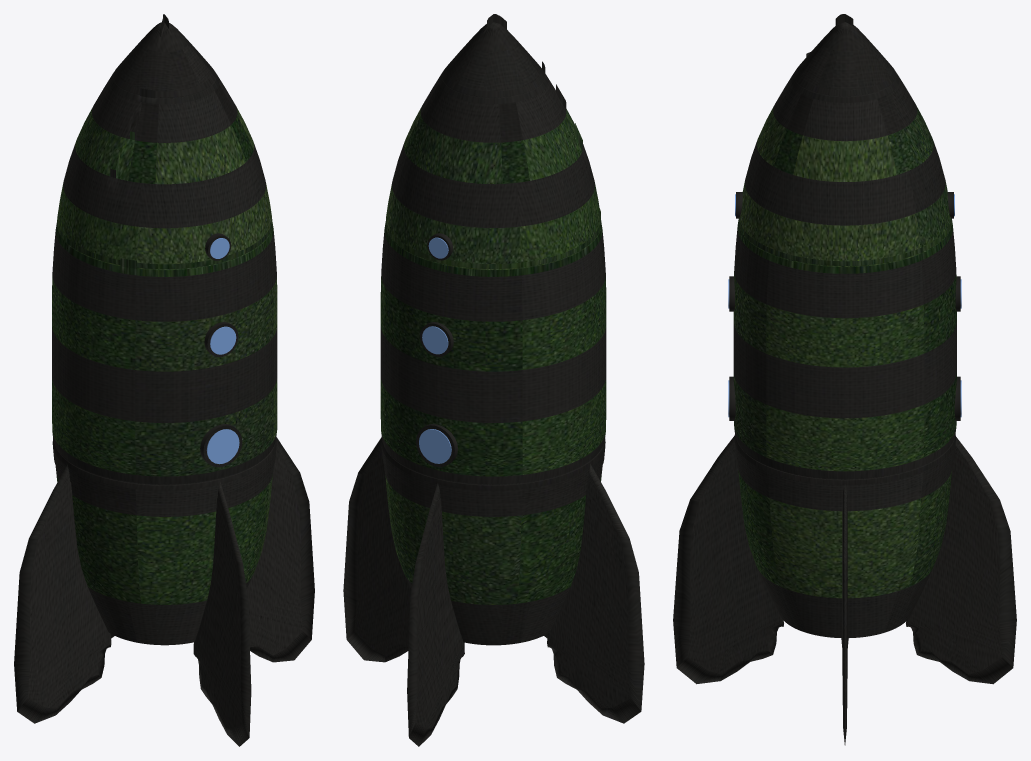
The model's file is Fusee.FBX.
The picture shows the model from 3 angles, left to right: view 1: azimuth 30°, elevation 25°; view 2: azimuth 150°, elevation 25°; view 3: azimuth 270°, elevation 25°; orthographic projection.
Visible parts, largest first — view 1: V2, Cone009, Cone008, Hublo bas001; view 2: V2, Cone006, Cone002, Hublo bas; view 3: V2.
Boxes of the visible parts, x1,y1,x2,y2 form: V2: (14,14,314,746); Cone009: (206,429,239,464); Cone008: (210,326,236,354); Hublo bas001: (200,424,242,467); V2: (343,14,644,746); Cone006: (419,429,451,463); Cone002: (422,326,448,354); Hublo bas: (416,424,457,467); V2: (673,14,1016,745).
Size of the model in its own units: 77.27 by 166 by 77.27.
Materials: 3 (2 with a texture image).
